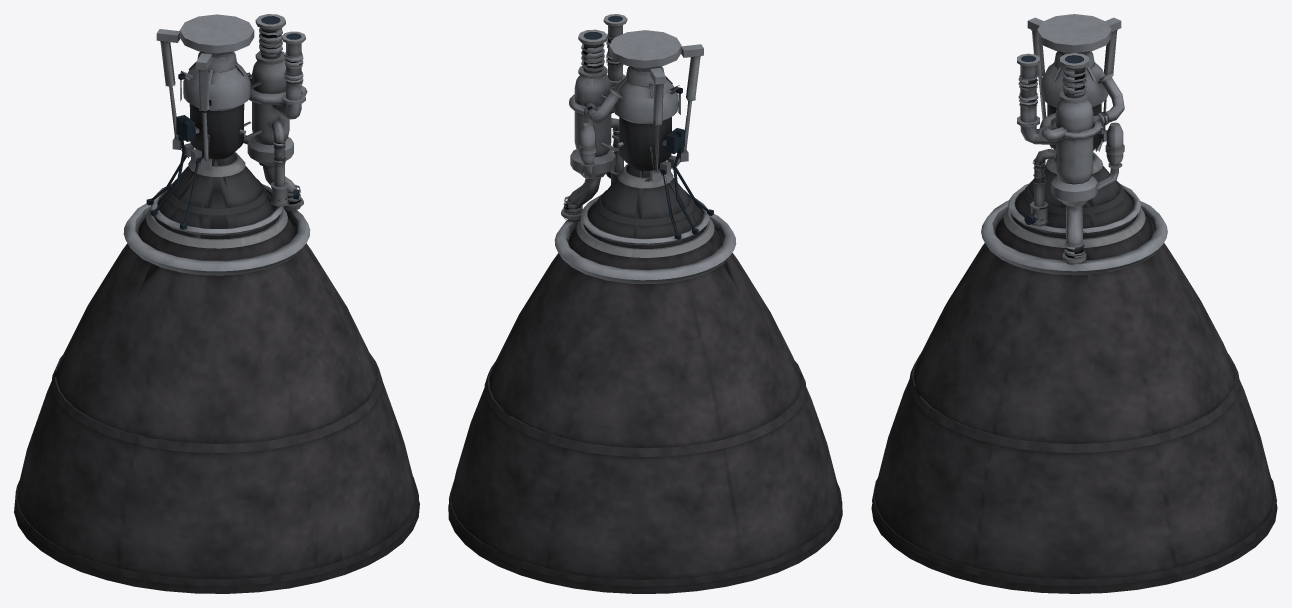
File: eng_kerolox_vacuum.glb
3 renders of one model, left to right at view 1: azimuth 30°, elevation 25°; view 2: azimuth 150°, elevation 25°; view 3: azimuth 270°, elevation 25°, orthographic. The views are drawn at different scales.
Parts seen in each view (by area): view 1: eng_kerolox_vacuum_mesh; view 2: eng_kerolox_vacuum_mesh; view 3: eng_kerolox_vacuum_mesh.
Part boxes in pixels (x1=…): eng_kerolox_vacuum_mesh: x1=14, y1=14, x2=419, y2=593; eng_kerolox_vacuum_mesh: x1=448, y1=14, x2=842, y2=593; eng_kerolox_vacuum_mesh: x1=871, y1=14, x2=1277, y2=593.
Bounding box in the file's own units: 3 × 3.9 × 3.
Materials: 1 (1 with a texture image).
